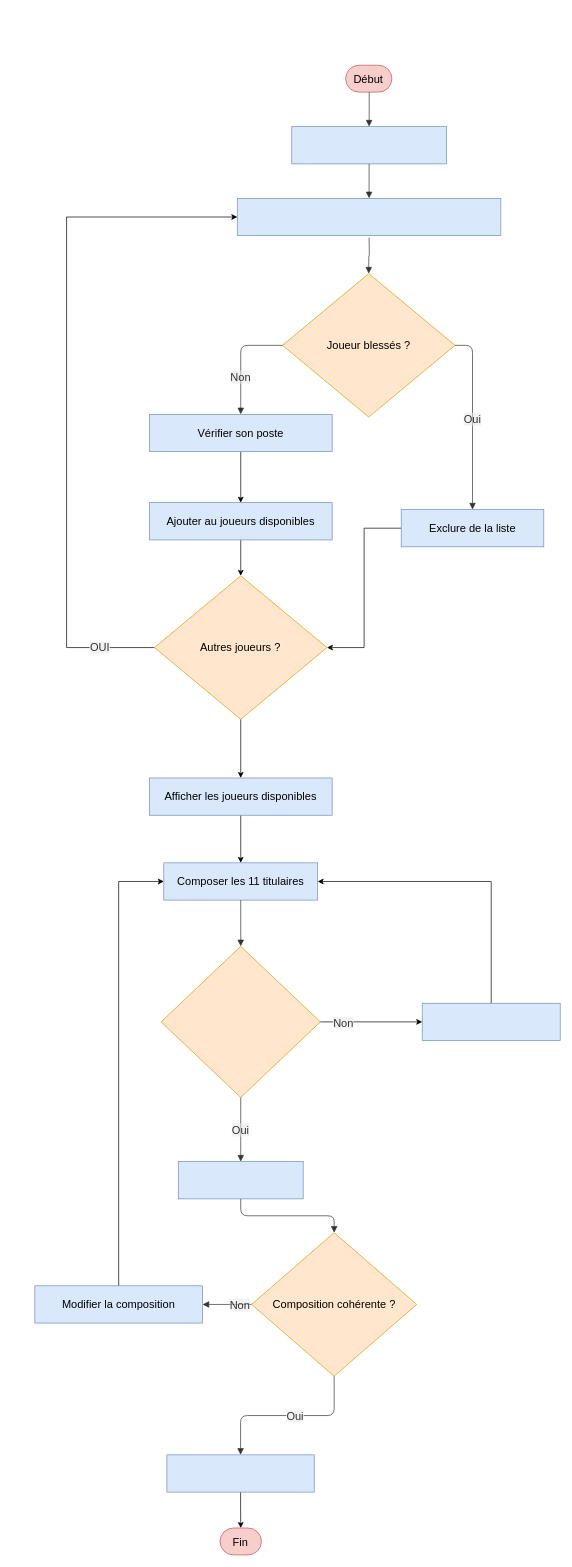
This 572x1567 diagram has some shape labels left out. Each missing label, with the centre of its shape:
11 joueurs séletionnés ?: [240,1021]
Charger les joueurs: [369,217]
Compléter la composition: [491,1022]
Sélectionner une rencontre: [368,145]
Validez l'équipe: [240,1473]
Vérifier les postes: [240,1180]
